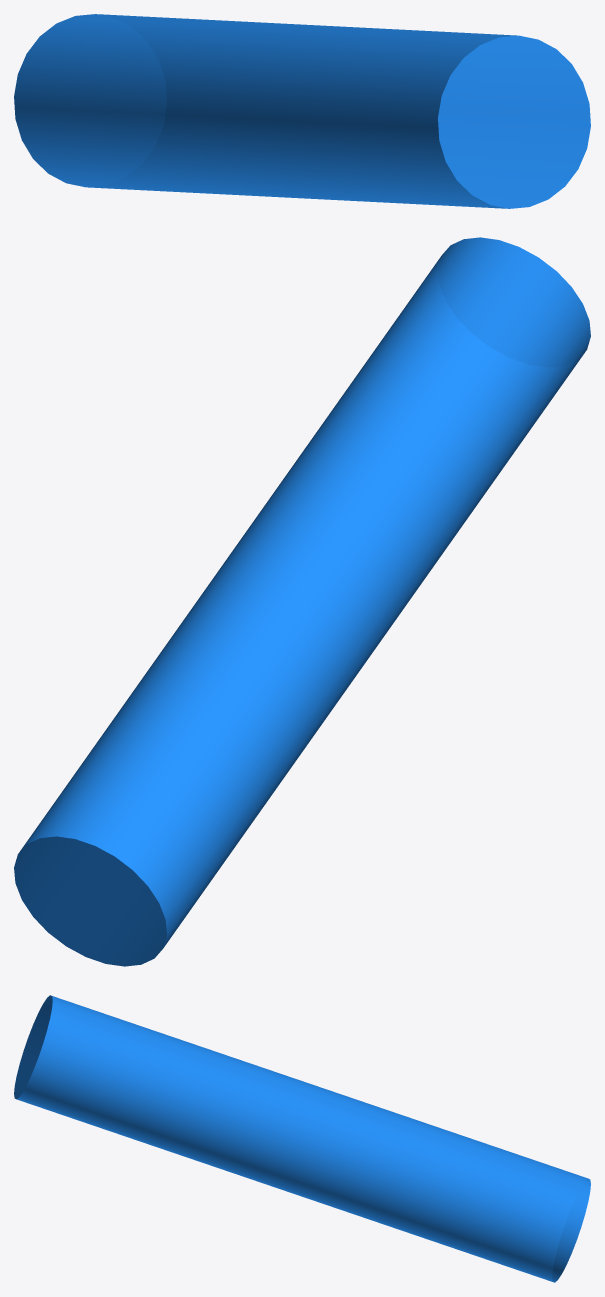
The model's file is Event_105485643_MET.fbx.
3 renders of one model, top to bottom at view 1: azimuth 30°, elevation 25°; view 2: azimuth 150°, elevation 25°; view 3: azimuth 270°, elevation 25°, orthographic. The views are drawn at different scales.
Visible parts, largest first — view 1: Model; view 2: Model; view 3: Model.
Part boxes in pixels (box(x1,y1,x2,y2)): Model: box(14, 14, 590, 208); Model: box(14, 237, 590, 966); Model: box(14, 995, 590, 1282).
Size of the model in its own units: 0.04 by 0.1109 by 0.2094.
